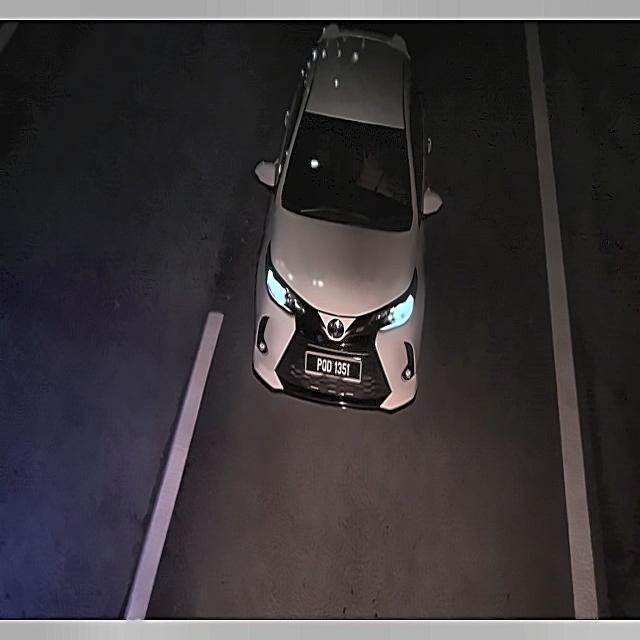car: (304, 352, 363, 385)
